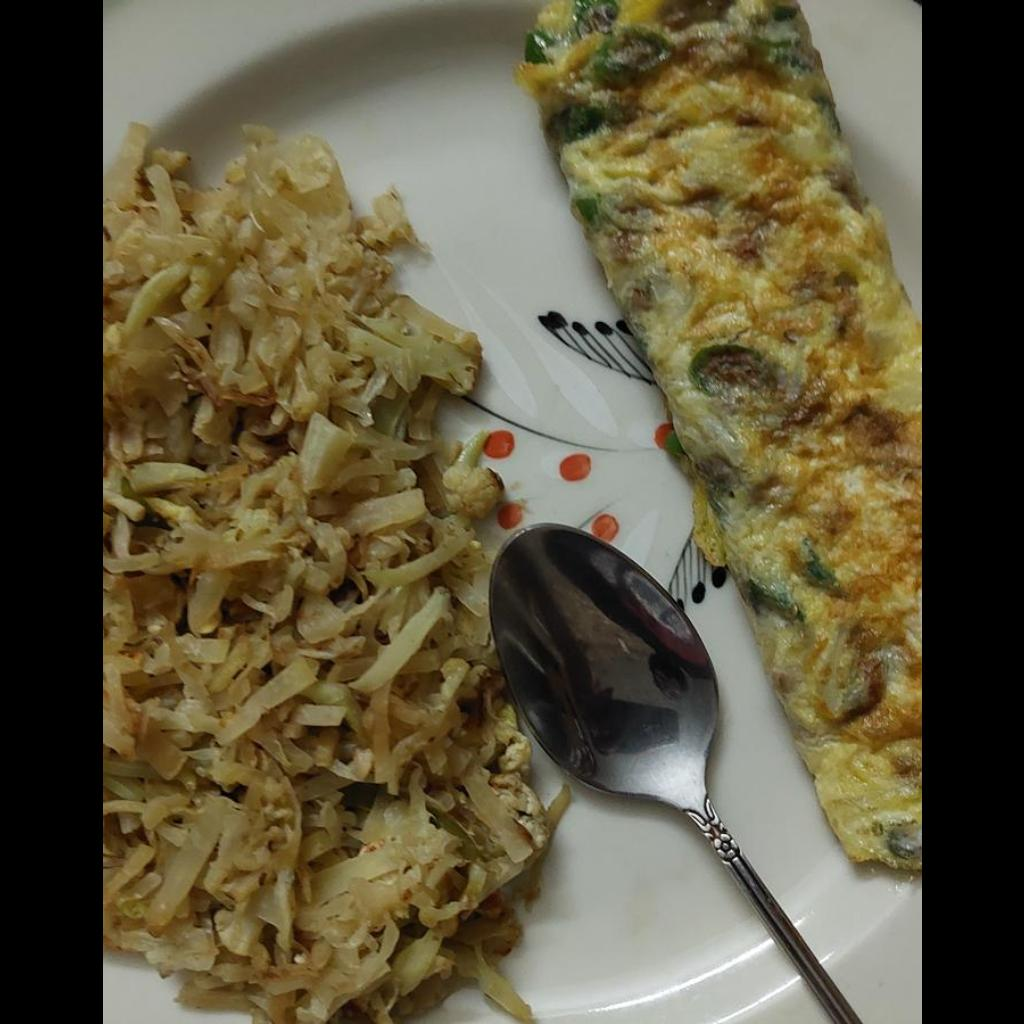egg-poached: (523, 1, 920, 871)
vaji: (102, 117, 569, 1020)
